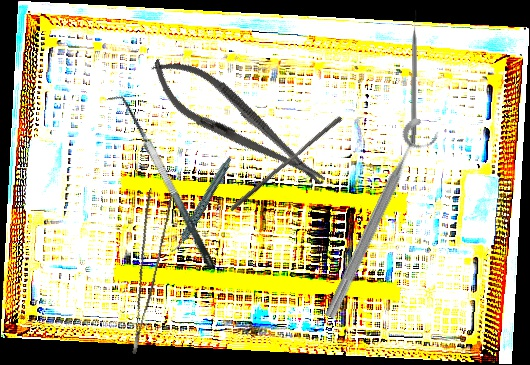Fixation Ring: (318, 115, 443, 327)
Handpiece: (153, 156, 249, 255)
Needle Holder: (139, 43, 337, 204)
Pusher: (229, 112, 343, 216), (410, 10, 420, 145)
Spatula Surgical: (106, 87, 217, 279)
Tissue Forceps: (105, 187, 181, 355)
